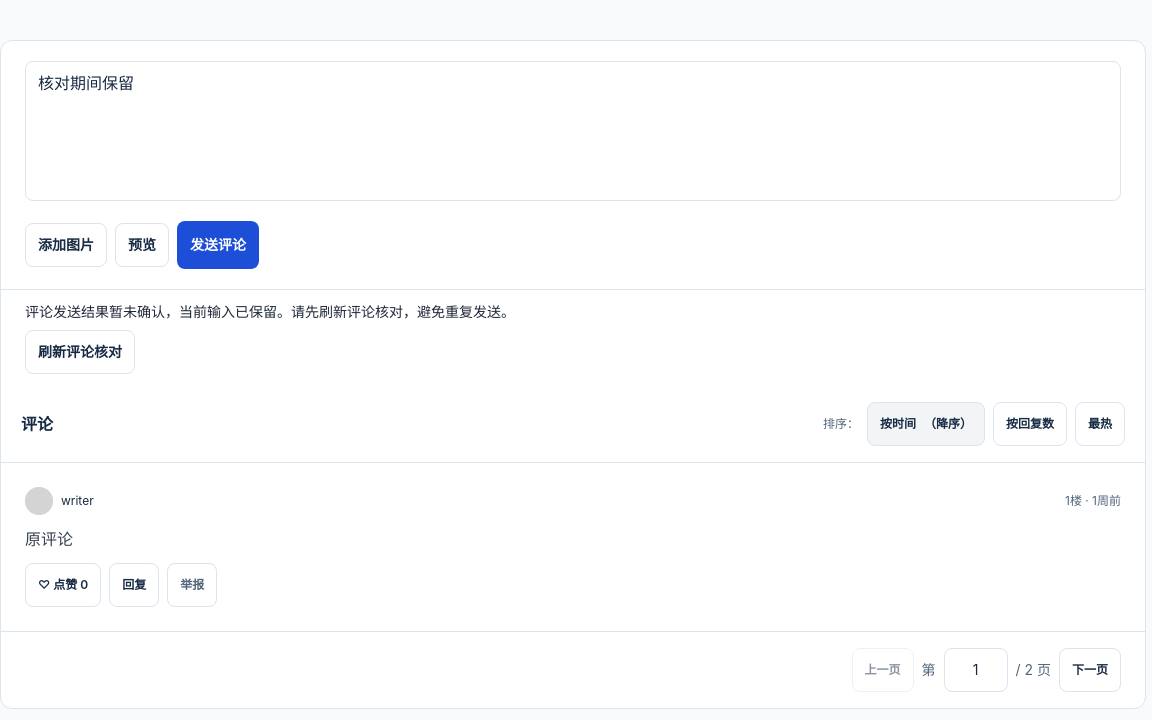
Scenario: comment creation through the actual API transport › keeps the uncertainty notice and input when the read-only verification fails, then lets the read recover
Click the button "刷新评论核对" at (80, 352), box 25,330 -> 135,374
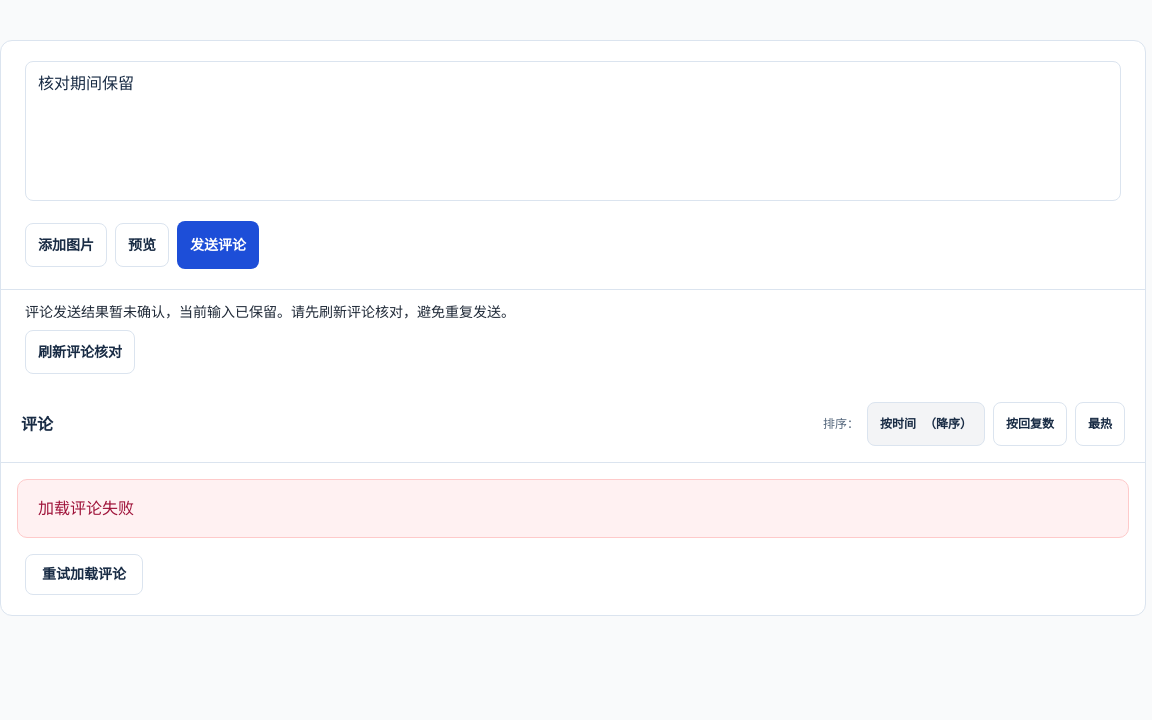
Expected: the text "评论发送结果暂未确认" is shown, 25,303 -> 515,320
Expected: the text "加载评论失败" is shown, 17,479 -> 1129,538
Click the button "刷新评论核对" at (80, 352), box 25,330 -> 135,374
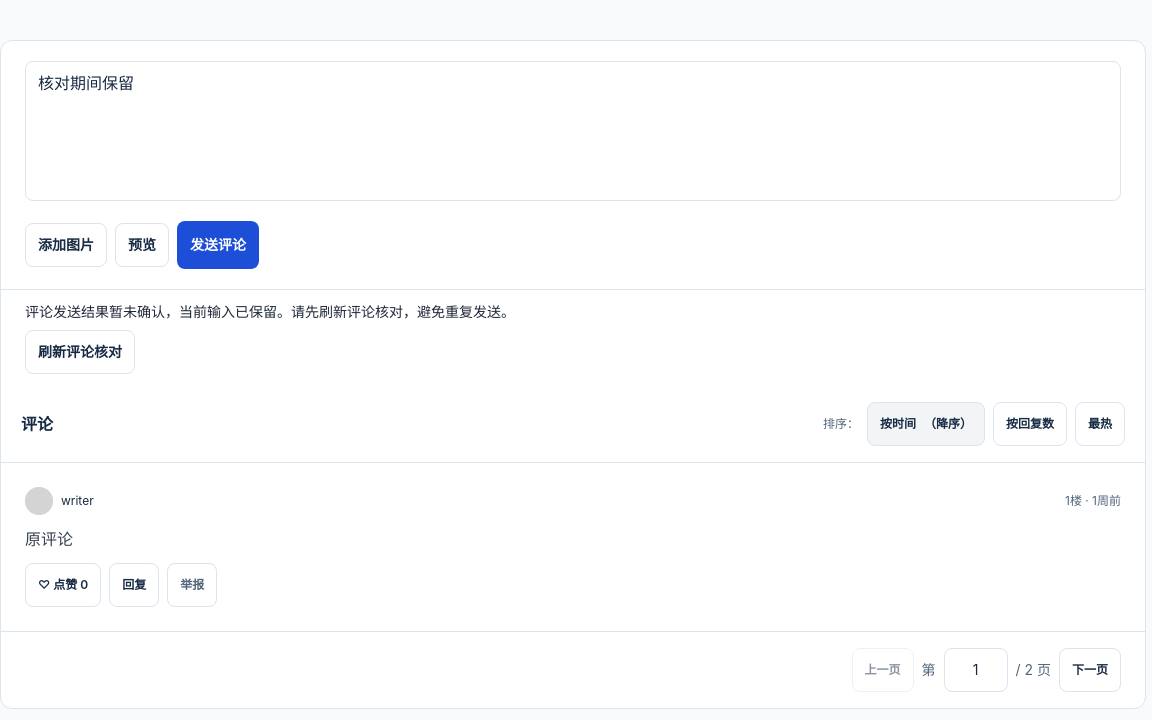
Expected: the text "评论发送结果暂未确认" is shown, 25,303 -> 515,320
Expected: the text "加载评论失败" is gone
Expected: the text "原评论" is shown, 25,529 -> 73,549
